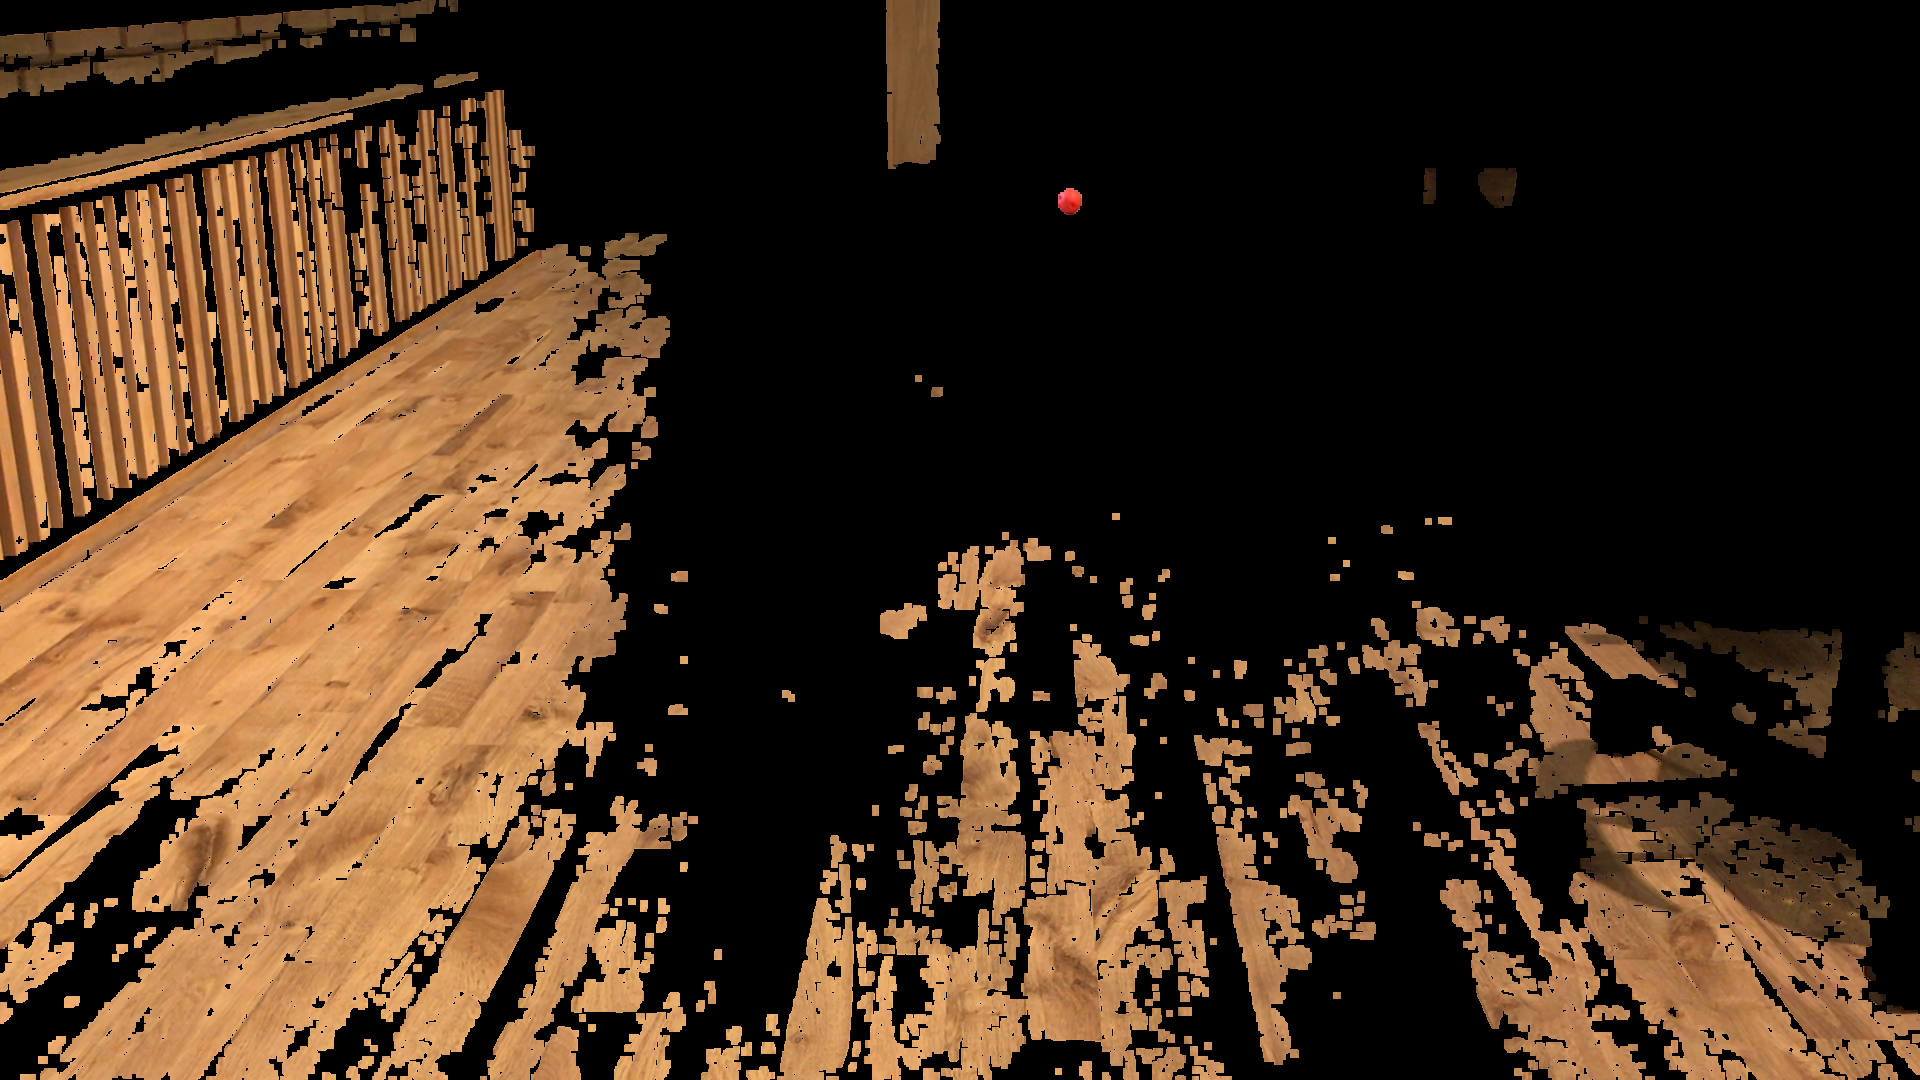Ball: (1058, 179, 1077, 207)
